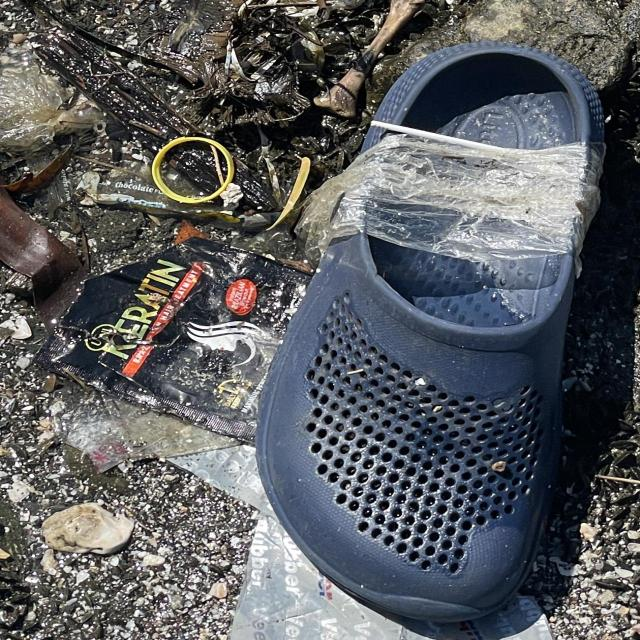plastic_waste: (32, 237, 318, 449), (152, 136, 239, 206)
rubber_waste: (255, 41, 612, 634)
